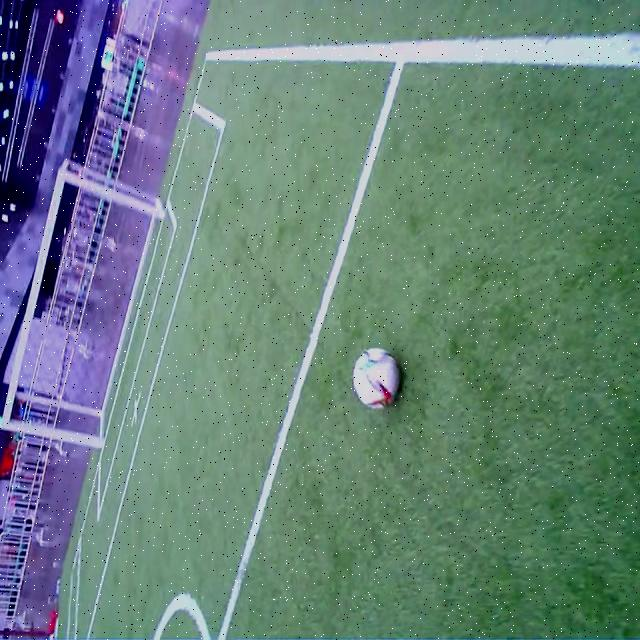ball: (353, 346, 399, 409)
